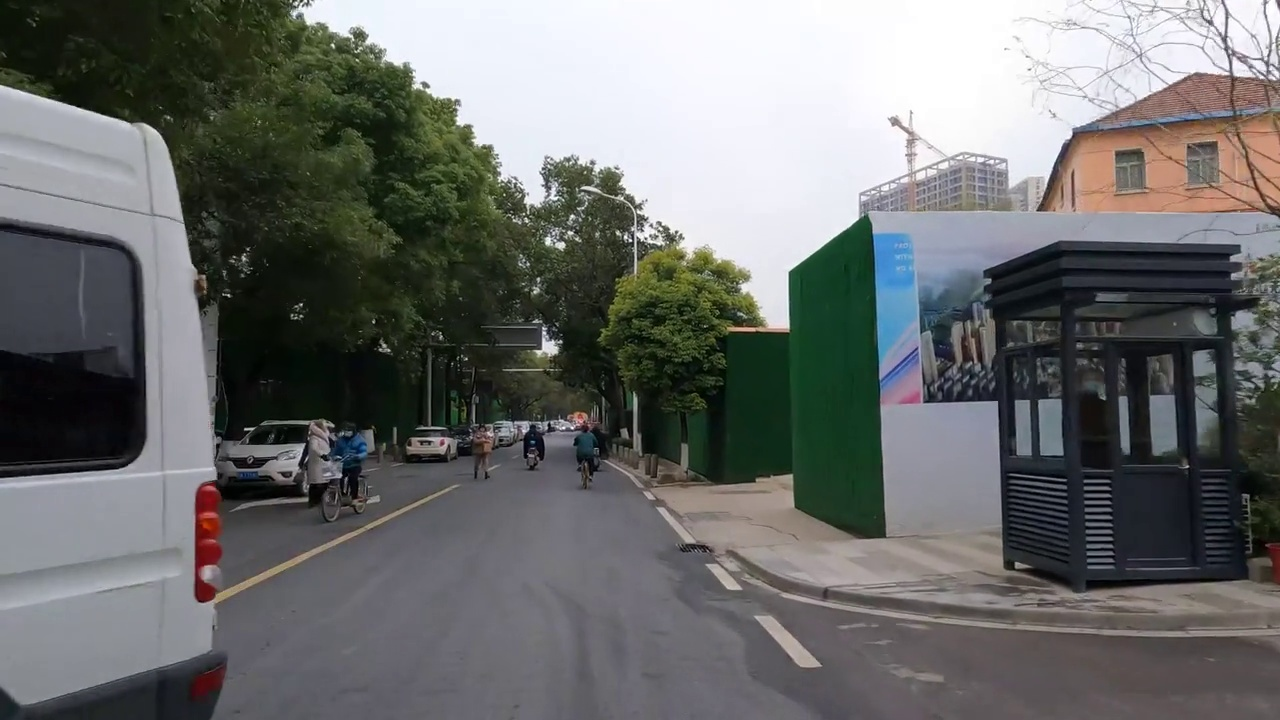lane: (607, 464, 821, 669), (218, 485, 459, 607)
